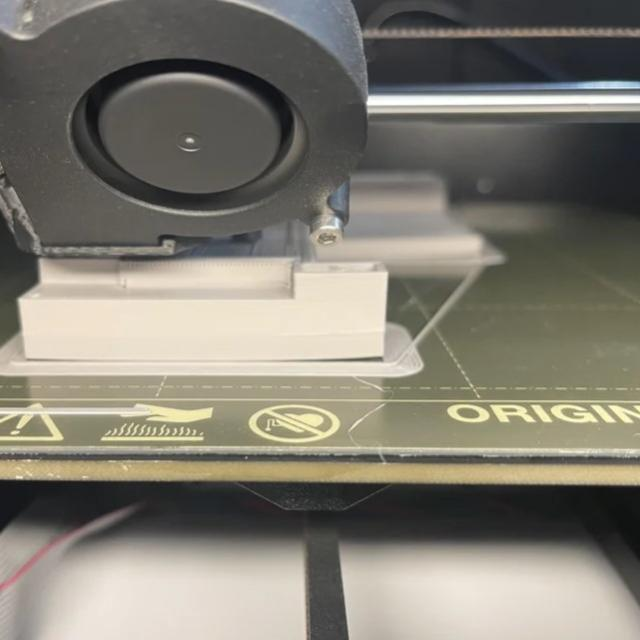Warping: (318, 345, 394, 368)
